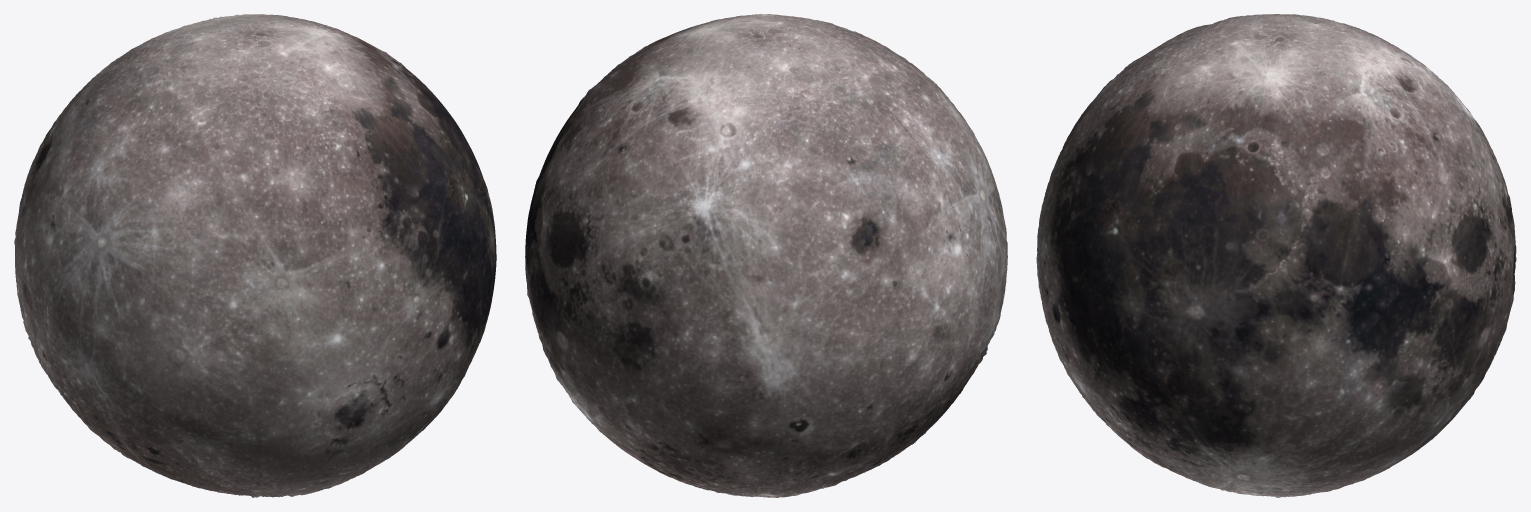
Rendered from Moon_NASA_LRO_8k_Topo_Small.glb.
The picture shows the model from 3 angles, left to right: view 1: azimuth 30°, elevation 25°; view 2: azimuth 150°, elevation 25°; view 3: azimuth 270°, elevation 25°; orthographic projection.
Size of the model in its own units: 1.97 by 1.99 by 1.96.
Materials: 1 (1 with a texture image).
